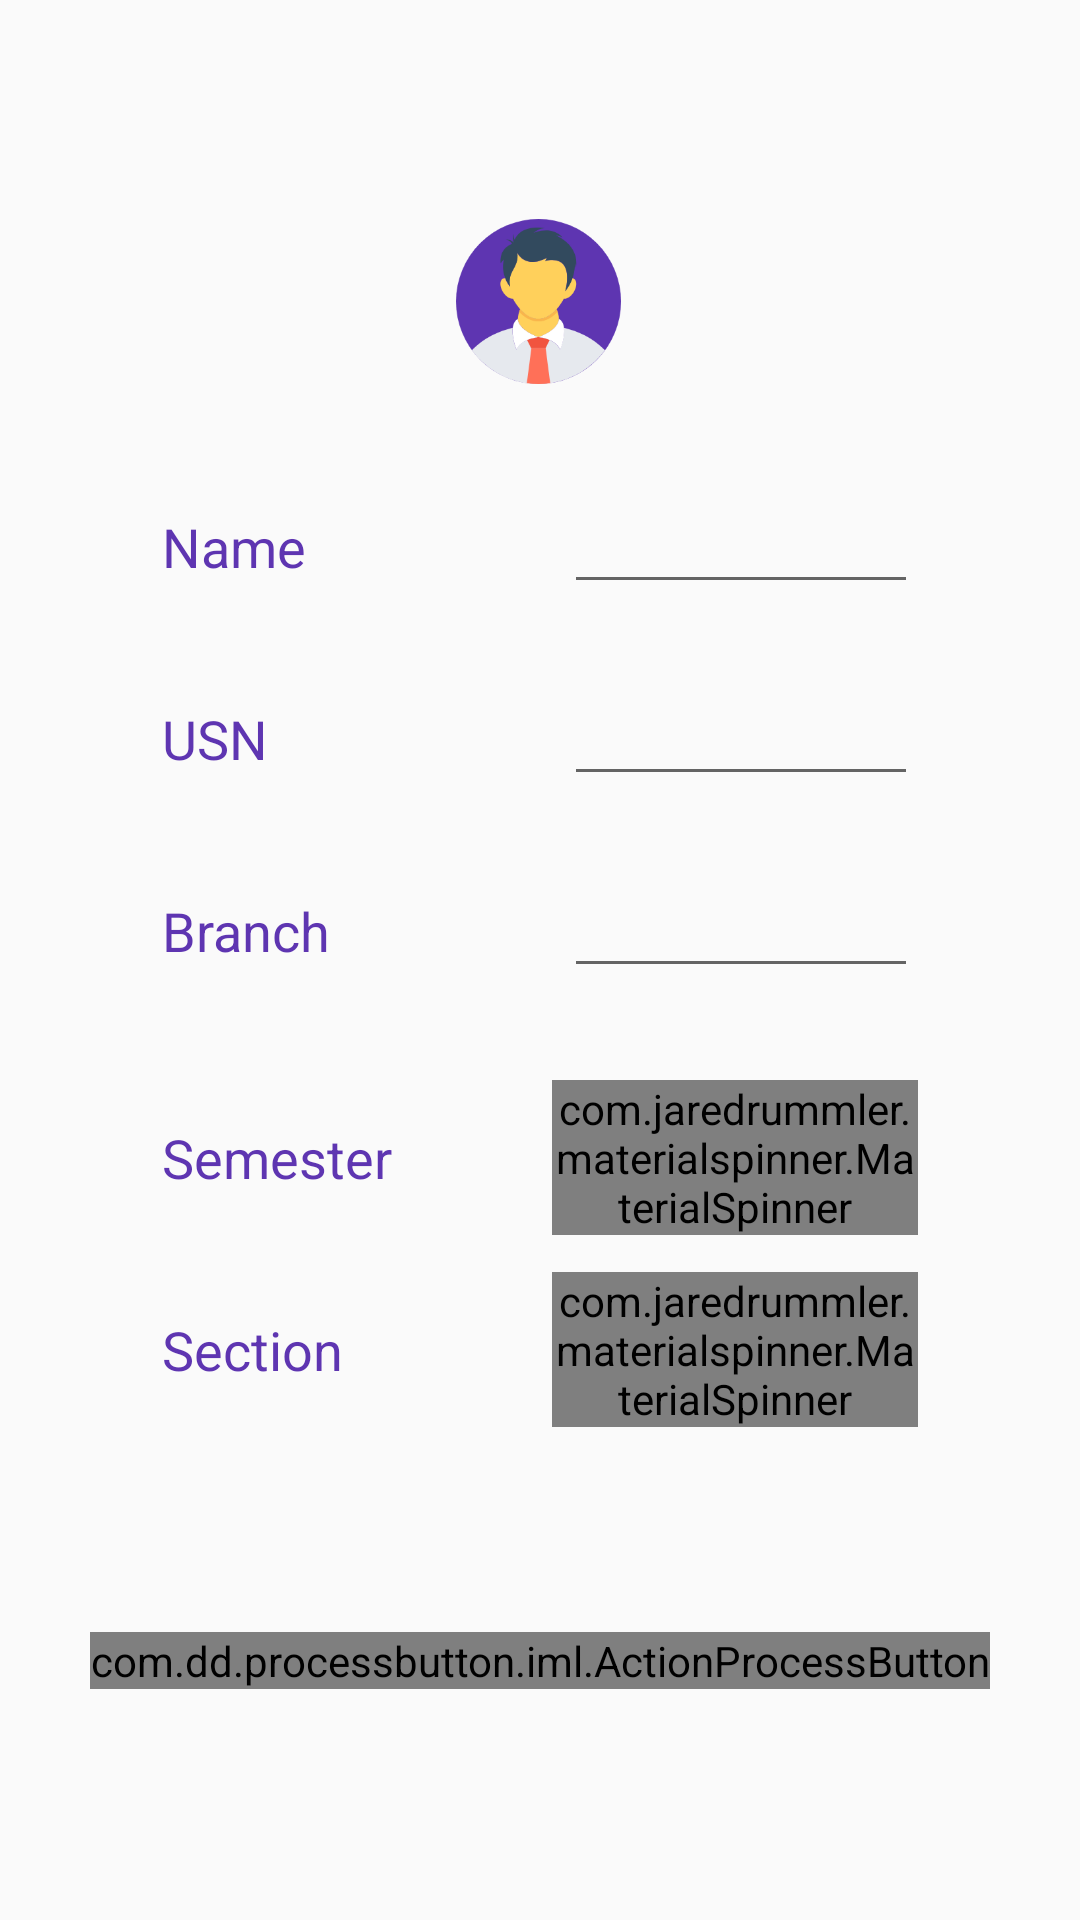

Screen size 1080w x 1920h. Icon name, then its box in pixels as (x1, y1, x2, y2):
user profile: (456, 219, 621, 384)
